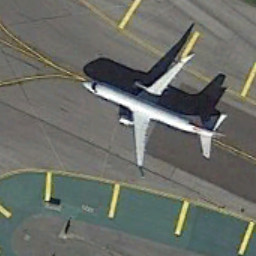Airplane: (74, 42, 240, 193)
